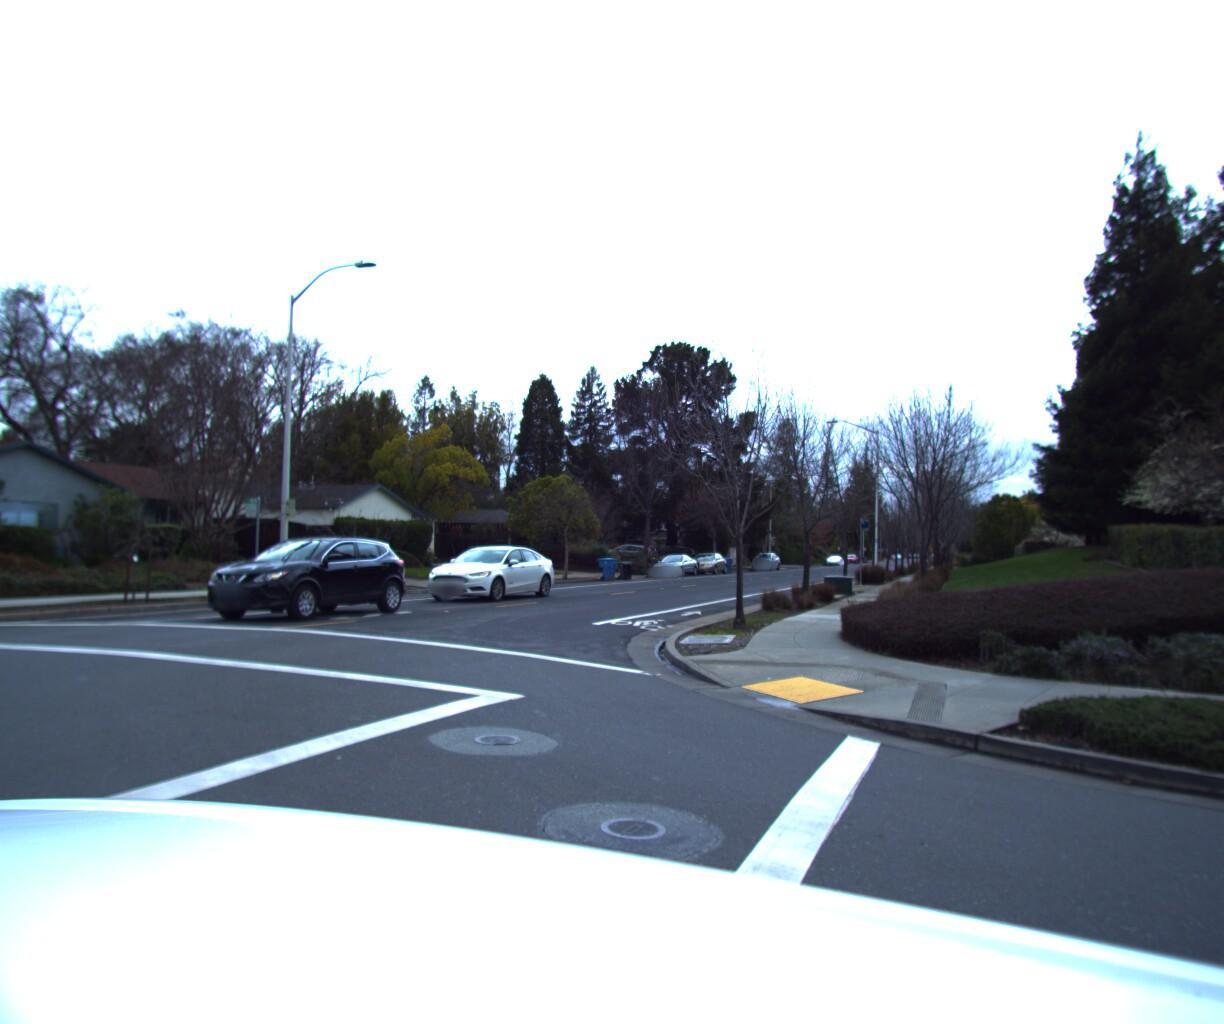car: (180, 533, 411, 631), (419, 542, 565, 608), (649, 556, 701, 582), (687, 554, 732, 579), (749, 555, 783, 574)
